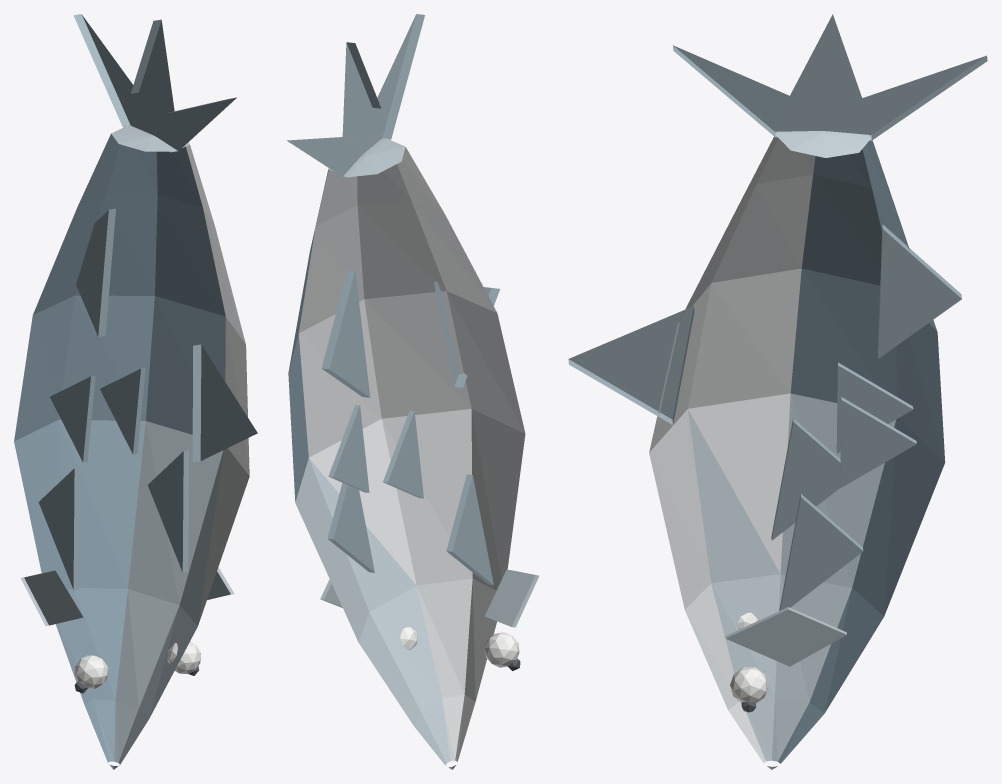
File: herring.glb
The picture shows the model from 3 angles, left to right: view 1: azimuth 30°, elevation 25°; view 2: azimuth 150°, elevation 25°; view 3: azimuth 270°, elevation 25°; orthographic projection. The views are drawn at different scales.
Visible parts, largest first — view 1: Arm.R.Lower.Tool.BodyTop, Arm.R.Lower.Tool.BodySide, Arm.R.Lower.Tool.TailFin, Arm.R.Lower.Tool.BodyBelly, Arm.R.Lower.Tool.DorsalFin, Arm.R.Lower.Tool.AnalFin, Arm.R.Lower.Tool.PectoralFinL, Arm.R.Lower.Tool.PectoralFinR, Arm.R.Lower.Tool.PelvicFinR, Arm.R.Lower.Tool.PelvicFinL, Arm.R.Lower.Tool.GillL, Arm.R.Lower.Tool.EyeL (+2 smaller); view 2: Arm.R.Lower.Tool.BodyBelly, Arm.R.Lower.Tool.BodySide, Arm.R.Lower.Tool.TailFin, Arm.R.Lower.Tool.AnalFin, Arm.R.Lower.Tool.PectoralFinL, Arm.R.Lower.Tool.BodyTop, Arm.R.Lower.Tool.PectoralFinR, Arm.R.Lower.Tool.PelvicFinL, Arm.R.Lower.Tool.PelvicFinR, Arm.R.Lower.Tool.GillL, Arm.R.Lower.Tool.DorsalFin, Arm.R.Lower.Tool.EyeL; view 3: Arm.R.Lower.Tool.BodyBelly, Arm.R.Lower.Tool.BodyTop, Arm.R.Lower.Tool.BodySide, Arm.R.Lower.Tool.TailFin, Arm.R.Lower.Tool.DorsalFin, Arm.R.Lower.Tool.AnalFin, Arm.R.Lower.Tool.PectoralFinR, Arm.R.Lower.Tool.PectoralFinL, Arm.R.Lower.Tool.GillR, Arm.R.Lower.Tool.PelvicFinR, Arm.R.Lower.Tool.PelvicFinL, Arm.R.Lower.Tool.EyeR.
Boxes of the visible parts, x1,y1,x2,y2 form: Arm.R.Lower.Tool.BodyTop: (14,134,225,769); Arm.R.Lower.Tool.BodySide: (110,126,224,769); Arm.R.Lower.Tool.TailFin: (73,14,236,152); Arm.R.Lower.Tool.BodyBelly: (186,144,249,625); Arm.R.Lower.Tool.DorsalFin: (192,344,257,462); Arm.R.Lower.Tool.AnalFin: (76,208,115,336); Arm.R.Lower.Tool.PectoralFinL: (38,467,79,589); Arm.R.Lower.Tool.PectoralFinR: (148,450,188,572); Arm.R.Lower.Tool.PelvicFinR: (100,368,145,454); Arm.R.Lower.Tool.PelvicFinL: (50,375,95,462); Arm.R.Lower.Tool.GillL: (20,570,83,626); Arm.R.Lower.Tool.EyeL: (74,655,108,688); Arm.R.Lower.Tool.BodyBelly: (298,147,525,769); Arm.R.Lower.Tool.BodySide: (295,138,455,769); Arm.R.Lower.Tool.TailFin: (287,14,424,177); Arm.R.Lower.Tool.AnalFin: (321,269,370,397); Arm.R.Lower.Tool.PectoralFinL: (446,474,493,585); Arm.R.Lower.Tool.BodyTop: (288,169,328,501); Arm.R.Lower.Tool.PectoralFinR: (327,483,374,572); Arm.R.Lower.Tool.PelvicFinL: (383,410,423,498); Arm.R.Lower.Tool.PelvicFinR: (328,405,369,492); Arm.R.Lower.Tool.GillL: (484,569,539,627); Arm.R.Lower.Tool.DorsalFin: (434,281,500,387); Arm.R.Lower.Tool.EyeL: (484,632,519,667); Arm.R.Lower.Tool.BodyBelly: (649,136,815,763); Arm.R.Lower.Tool.BodyTop: (778,140,945,763); Arm.R.Lower.Tool.BodySide: (688,131,895,769); Arm.R.Lower.Tool.TailFin: (672,14,987,140); Arm.R.Lower.Tool.DorsalFin: (568,306,694,424); Arm.R.Lower.Tool.AnalFin: (878,224,961,358); Arm.R.Lower.Tool.PectoralFinR: (779,494,863,610); Arm.R.Lower.Tool.PectoralFinL: (771,418,840,540); Arm.R.Lower.Tool.GillR: (725,607,846,666); Arm.R.Lower.Tool.PelvicFinR: (840,397,916,487); Arm.R.Lower.Tool.PelvicFinL: (836,362,913,453); Arm.R.Lower.Tool.EyeR: (730,667,768,703).
Bounding box in the file's own units: 0.1162 × 0.4004 × 0.1919.
